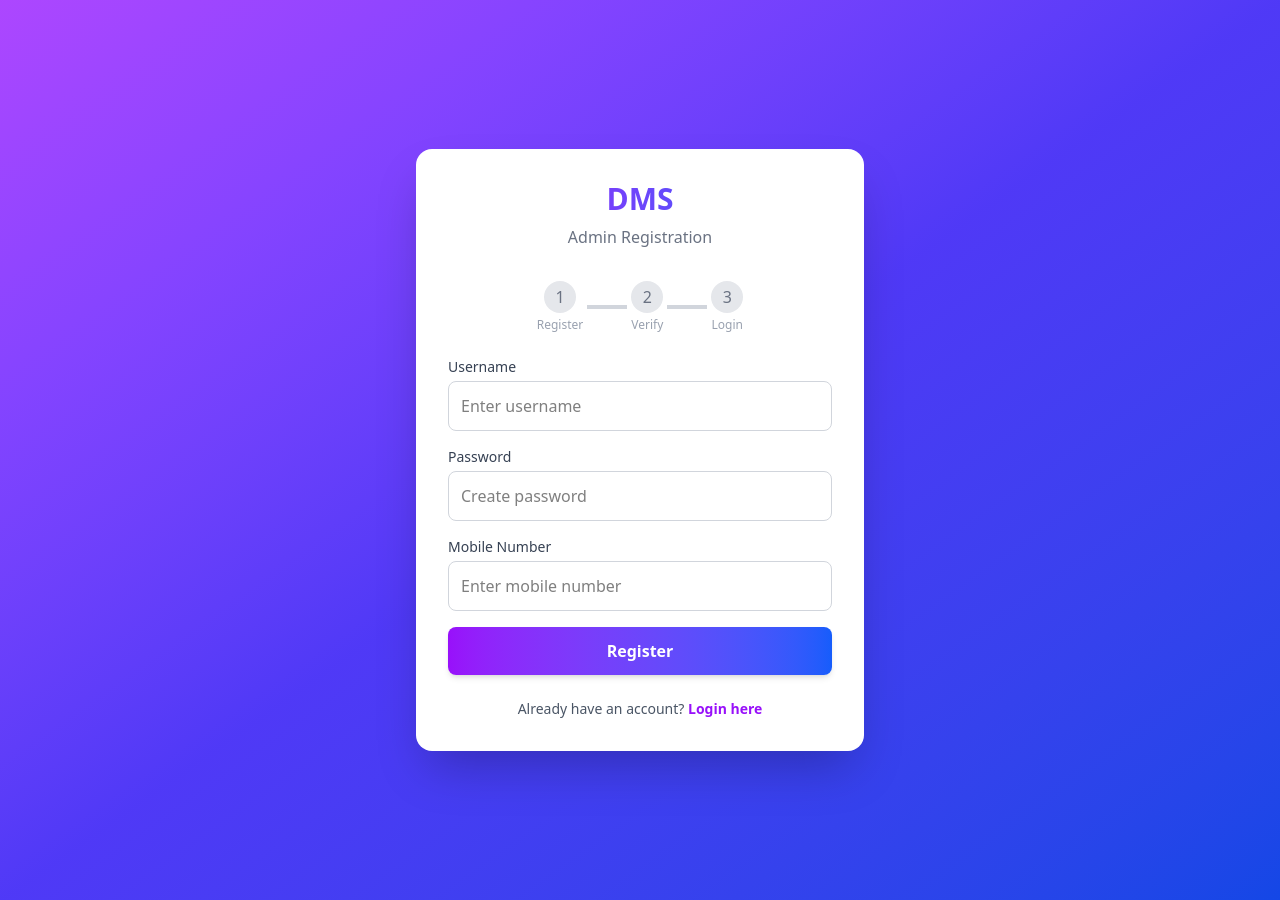
it: Login Component › navigates to mobile step after successful registration
Type "John" into the field labelled "Username" at (640, 406), box 448,381 -> 832,431
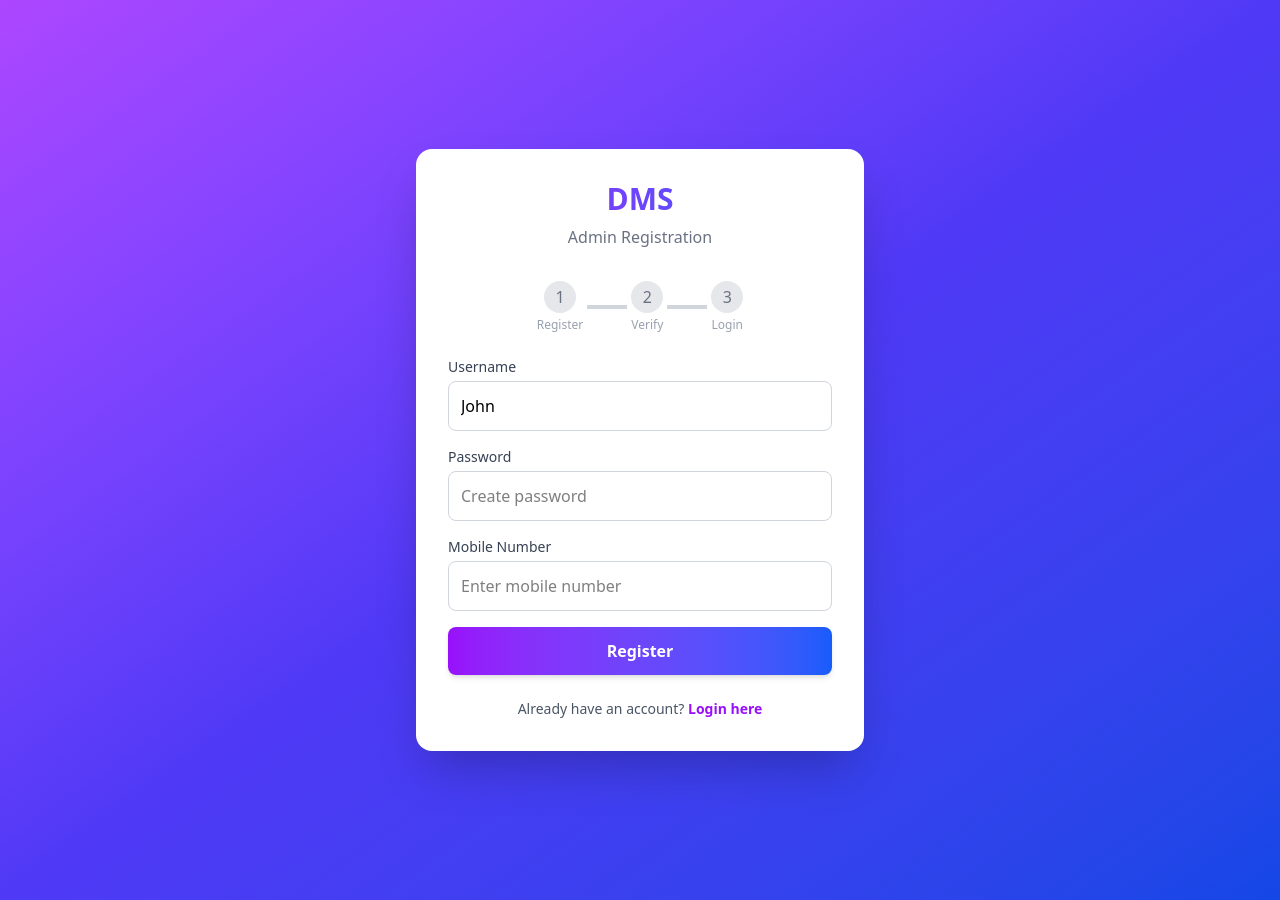
Type "password123" into the password field labelled "Password" at (640, 496), box 448,471 -> 832,521
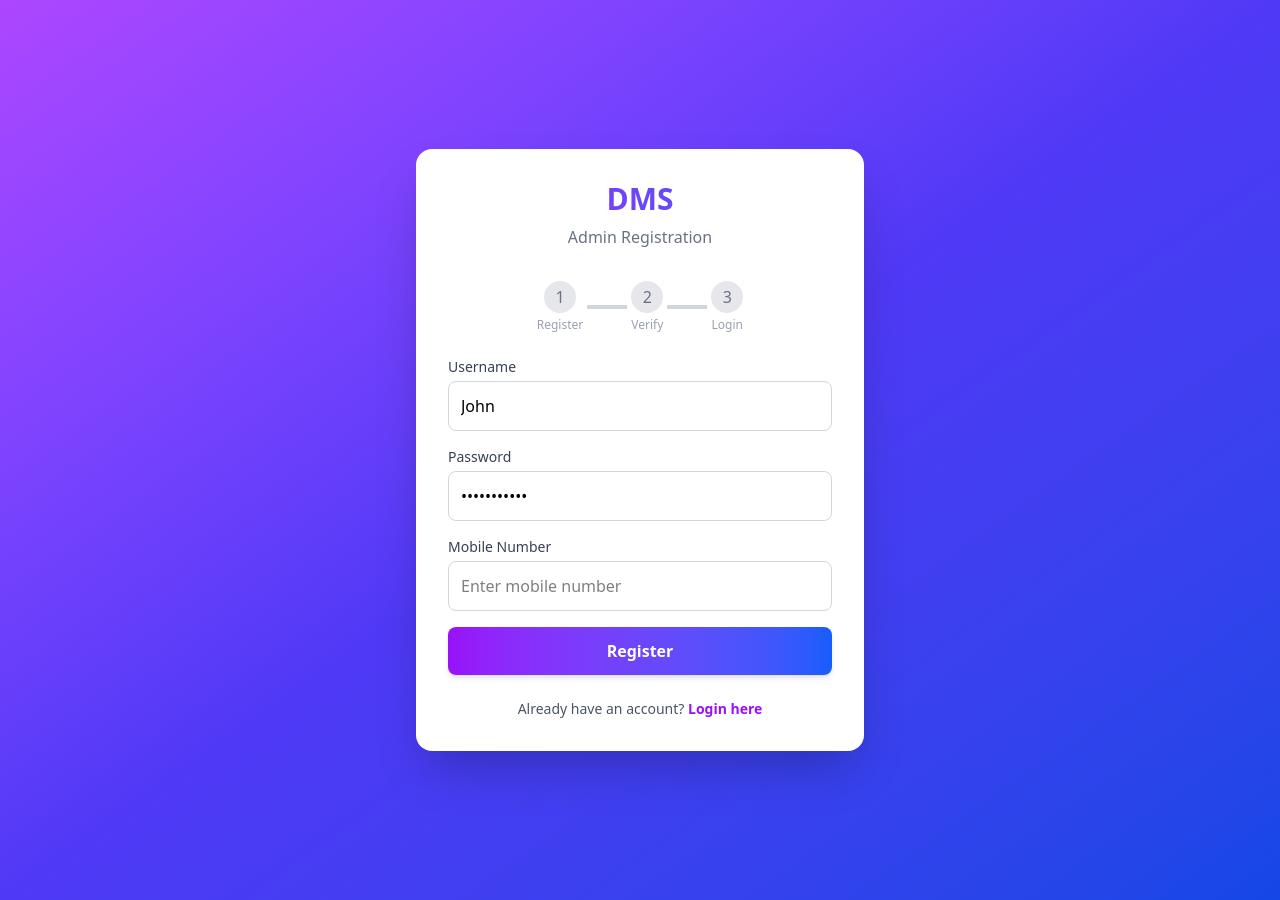
Type "9876543210" into the field labelled "Mobile Number" at (640, 586), box 448,561 -> 832,611
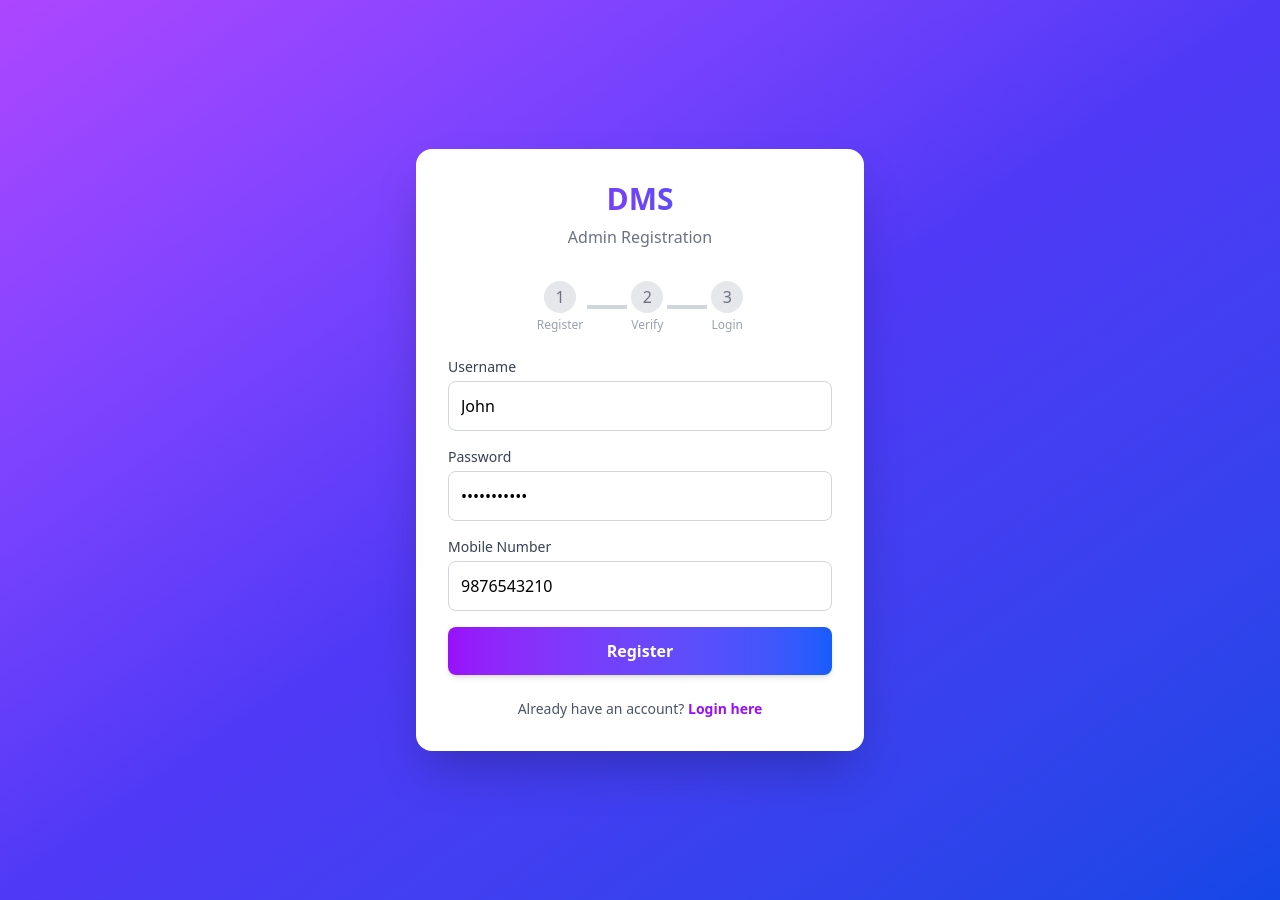
Click the button "Register" at (640, 651), box 448,627 -> 832,675
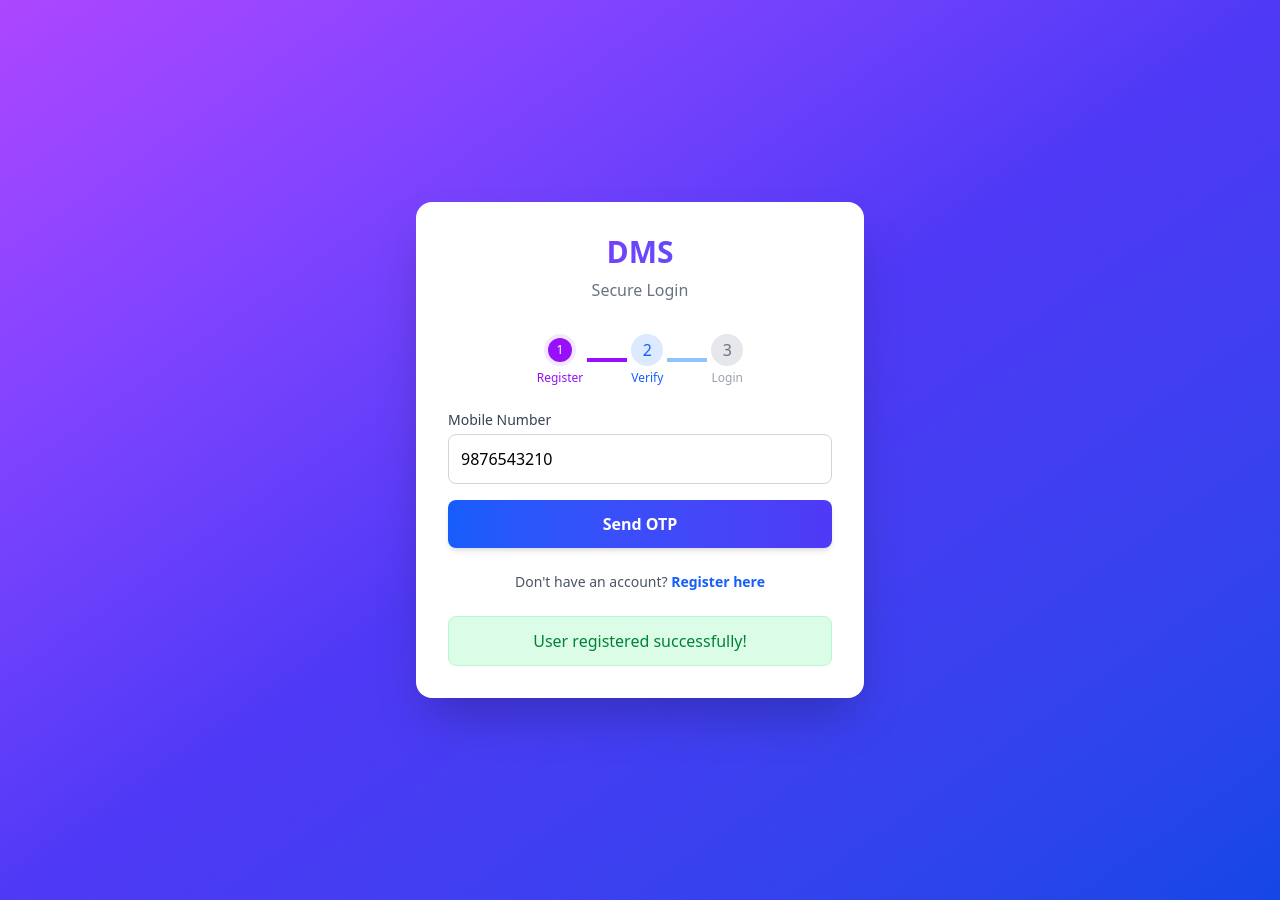
Expected: the text "Secure Login" is shown, 592,279 -> 688,301
